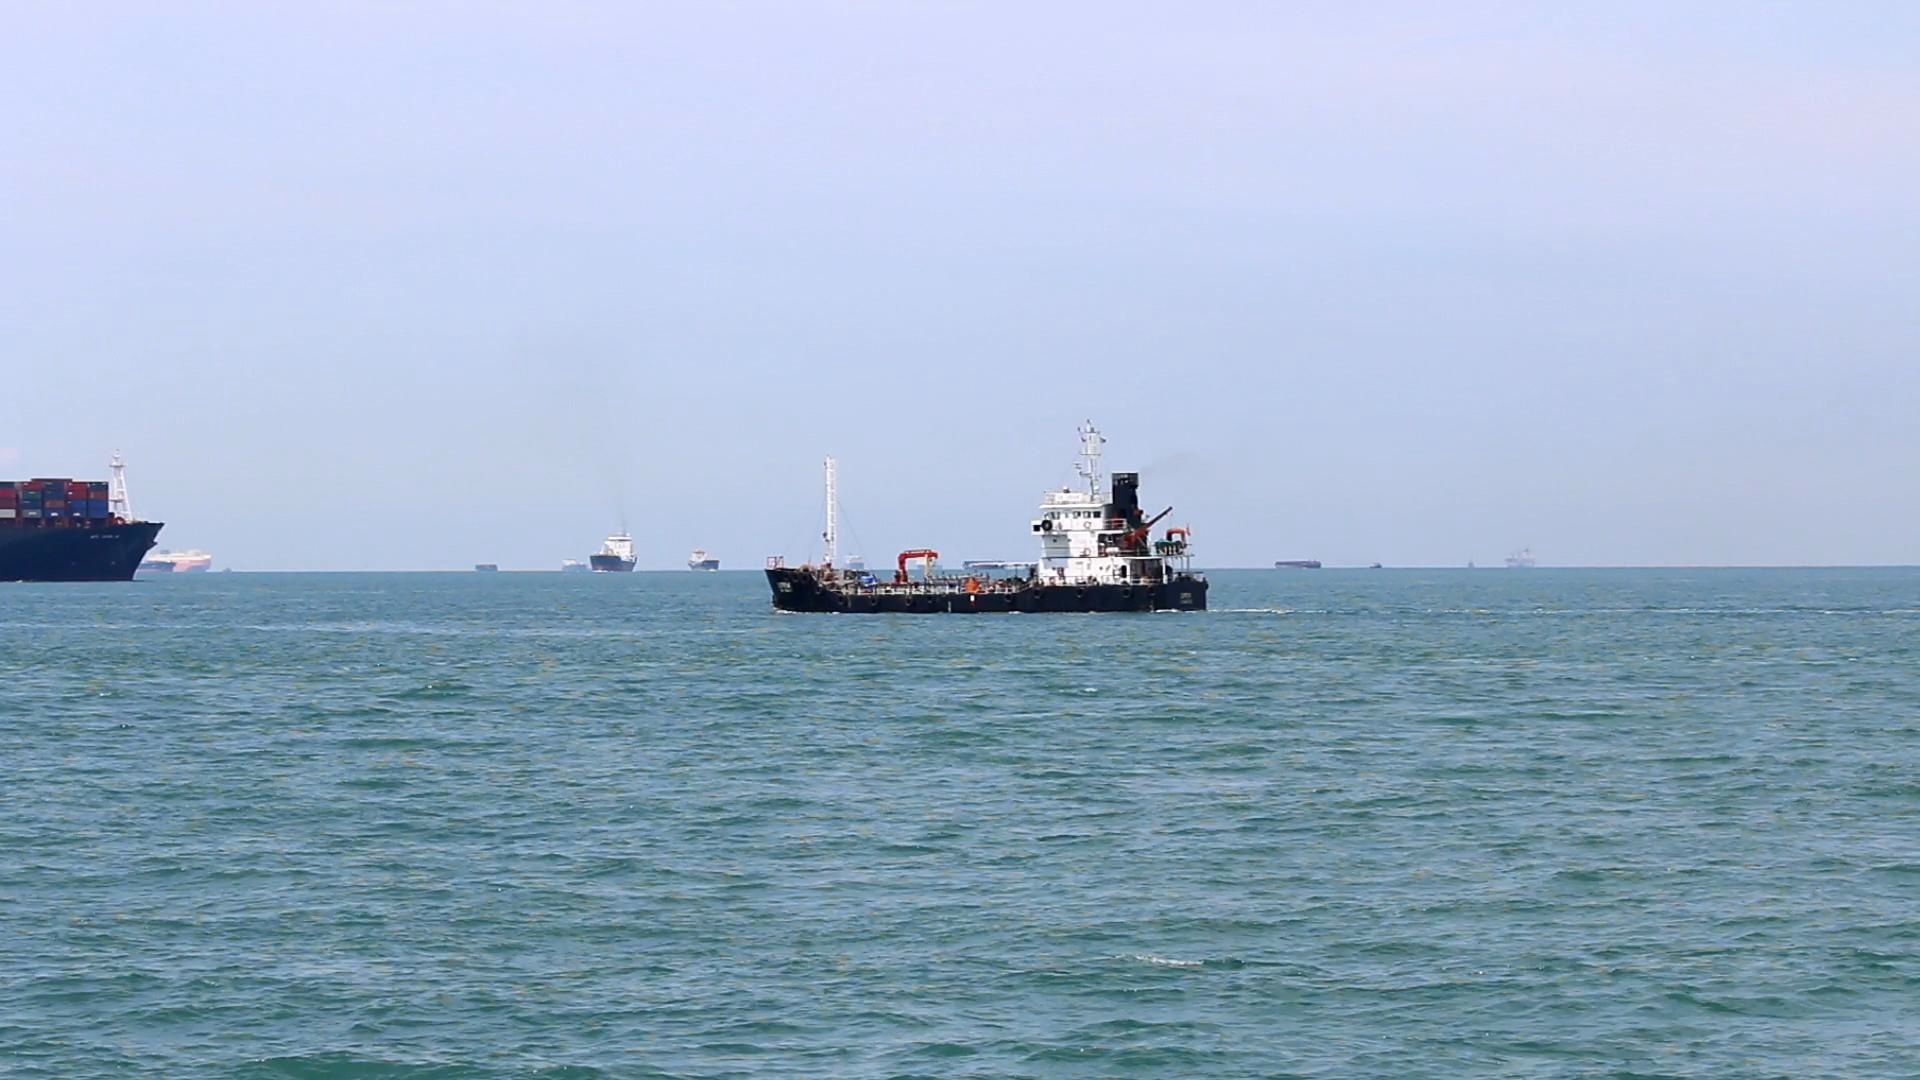Container Ship: (761, 410, 1225, 621), (3, 439, 167, 591), (141, 543, 223, 583), (591, 520, 646, 576), (1274, 546, 1329, 576), (683, 542, 727, 580), (1501, 539, 1545, 572), (468, 550, 510, 583), (556, 553, 591, 582)
